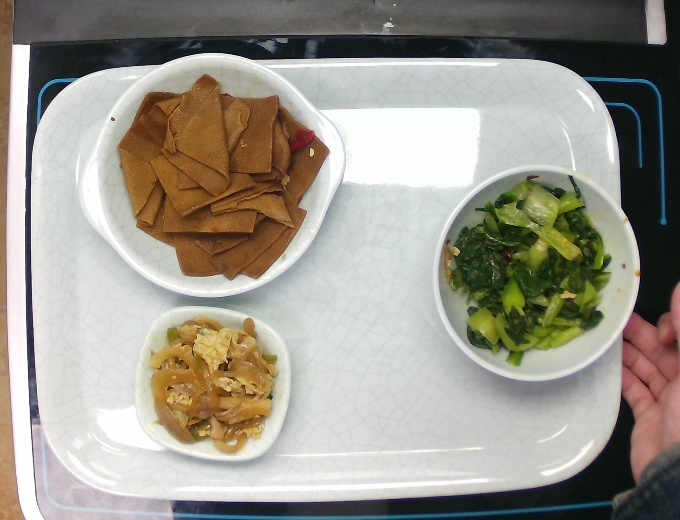JYsf-Fan_Wan: (425, 156, 644, 390)
JYsf-Shuang_Er_Wan: (71, 50, 348, 306)
JYsf-Si_Fang_Die: (129, 302, 297, 465)
